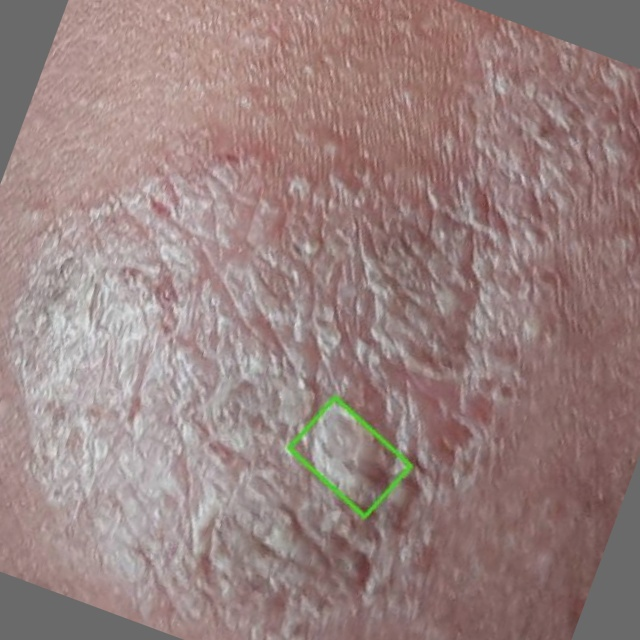Contact Dermatitis: (289, 396, 411, 516)
